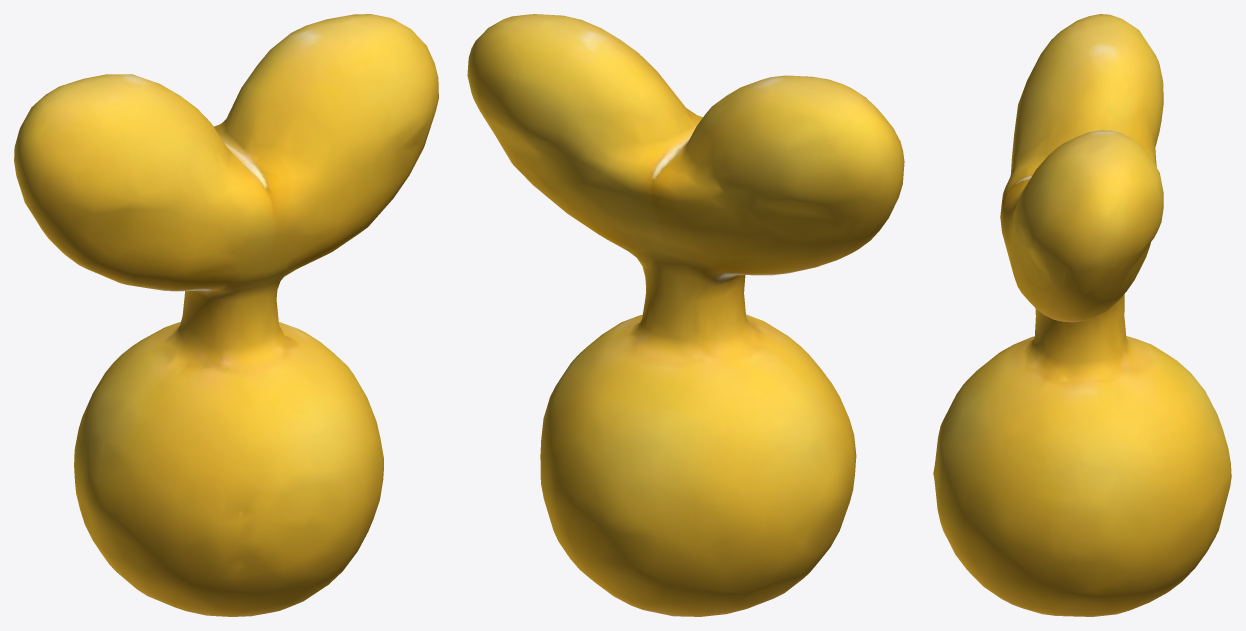
The model's file is extra-life.glb.
The picture shows the model from 3 angles, left to right: view 1: azimuth 30°, elevation 25°; view 2: azimuth 150°, elevation 25°; view 3: azimuth 270°, elevation 25°; orthographic projection. The views are drawn at different scales.
Visible parts, largest first — view 1: prop; view 2: prop; view 3: prop.
Boxes of the visible parts, x1,y1,x2,y2 form: prop: (14, 14, 438, 616); prop: (467, 14, 904, 616); prop: (933, 14, 1231, 616).
Bounding box in the file's own units: 0.4998 × 0.6198 × 0.3281.
Materials: 1 (1 with a texture image).
